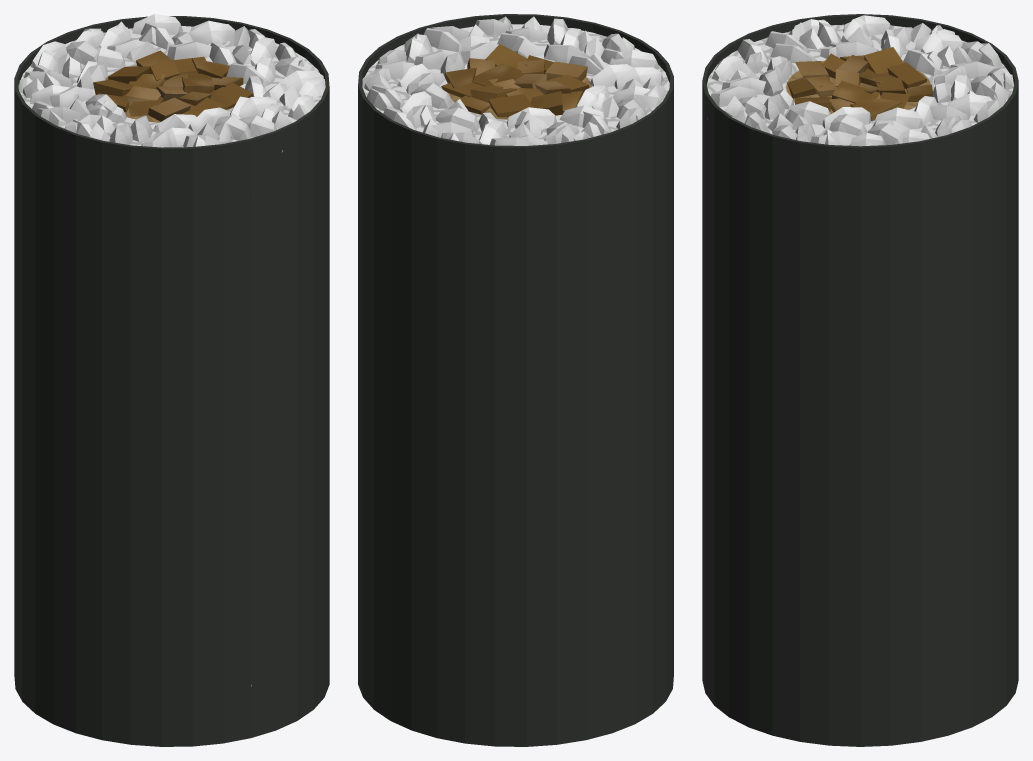
Rendered from nattomaki.obj.
The picture shows the model from 3 angles, left to right: view 1: azimuth 30°, elevation 25°; view 2: azimuth 150°, elevation 25°; view 3: azimuth 270°, elevation 25°; orthographic projection.
Parts seen in each view (by area): view 1: norimaki, kome, natto; view 2: norimaki, kome, natto; view 3: norimaki, kome, natto.
Part boxes in pixels (box(x1,y1,x2,y2)): norimaki: box(14, 16, 329, 746); kome: box(18, 14, 325, 152); natto: box(93, 50, 253, 121); norimaki: box(358, 14, 673, 746); kome: box(362, 16, 666, 145); natto: box(441, 44, 589, 117); norimaki: box(702, 14, 1018, 746); kome: box(707, 15, 1013, 146); natto: box(787, 47, 933, 121).
Bounding box in the file's own units: 11.77 × 24.9 × 11.77.
3 materials, 3 textured.
